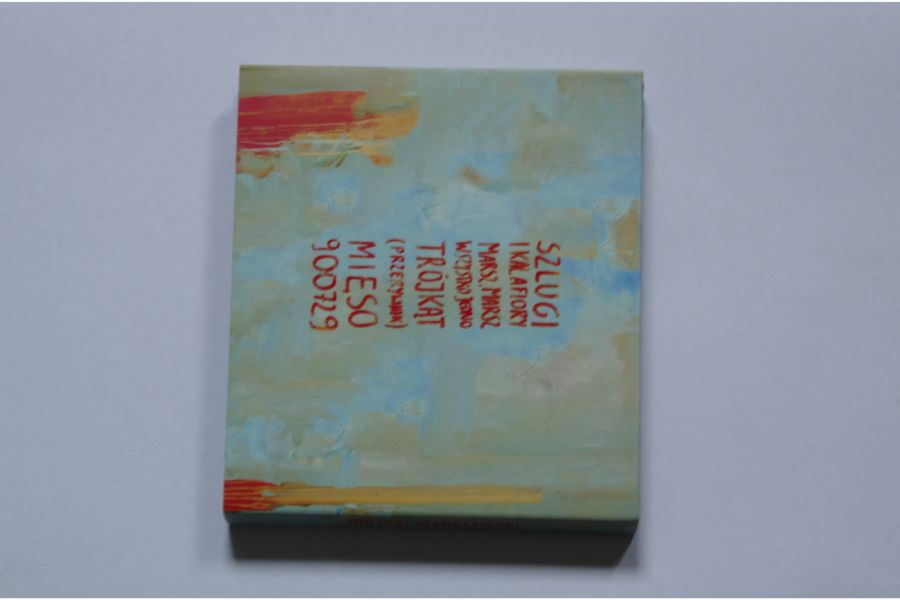album: (220, 65, 643, 539)
